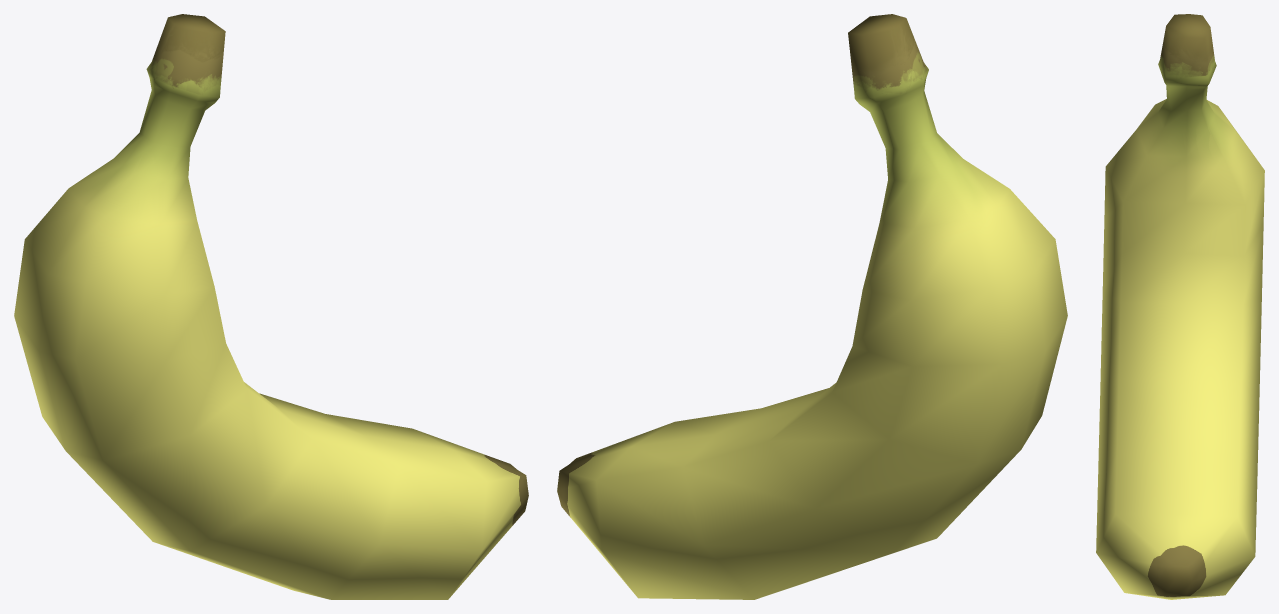
File: Banana.fbx
3 renders of one model, left to right at view 1: azimuth 30°, elevation 25°; view 2: azimuth 150°, elevation 25°; view 3: azimuth 270°, elevation 25°, orthographic. The views are drawn at different scales.
Parts seen in each view (by area): view 1: banana2; view 2: banana2; view 3: banana2.
Boxes of the visible parts, left/top/right/bottom form: banana2: left=14, top=14, right=528, bottom=599; banana2: left=557, top=14, right=1067, bottom=599; banana2: left=1096, top=14, right=1264, bottom=599.
Size of the model in its own units: 48.28 by 59.78 by 18.41.
